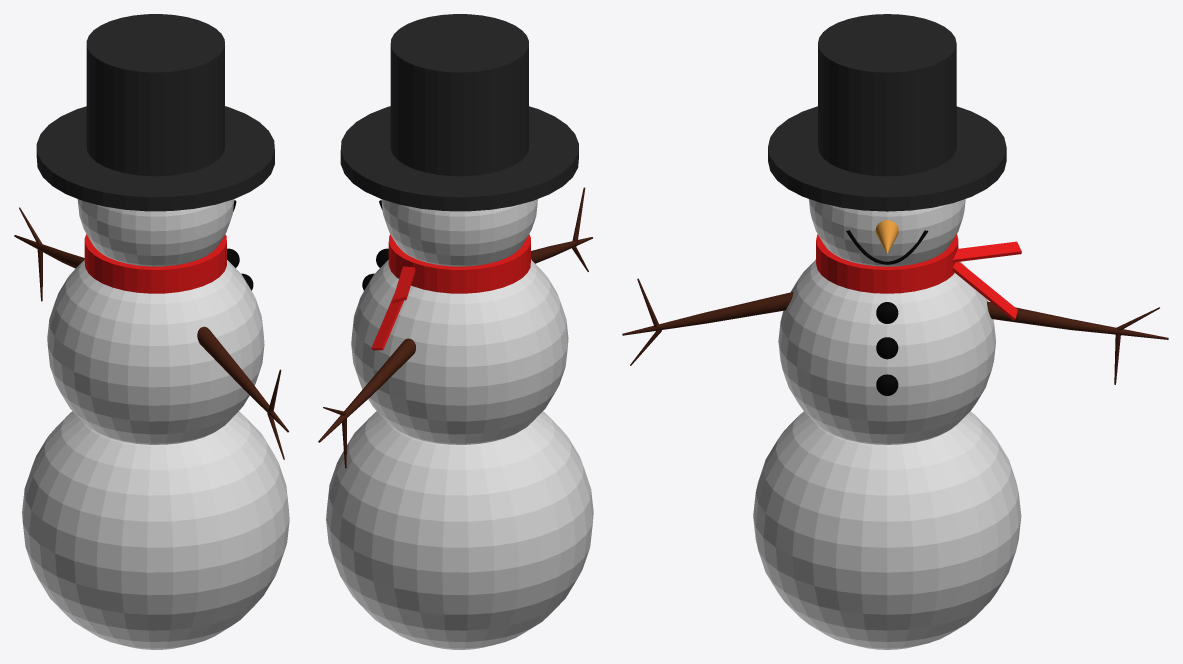
Rendered from schneemann.fbx.
3 renders of one model, left to right at view 1: azimuth 30°, elevation 25°; view 2: azimuth 150°, elevation 25°; view 3: azimuth 270°, elevation 25°, orthographic.
Visible parts, largest first — view 1: Snowman; view 2: Snowman; view 3: Snowman.
Boxes of the visible parts, <box> form: Snowman: <box>14,14,289,649</box>; Snowman: <box>318,14,593,649</box>; Snowman: <box>622,14,1168,649</box>.
Bounding box in the file's own units: 483 × 1181 × 984.
